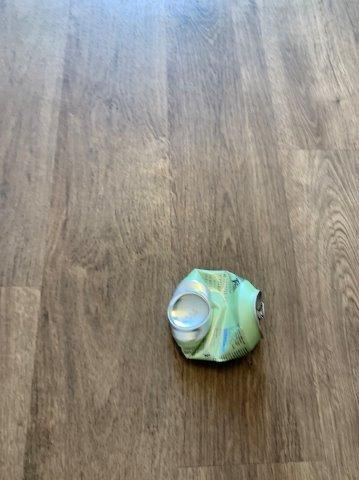kaleng: (168, 269, 263, 360)
